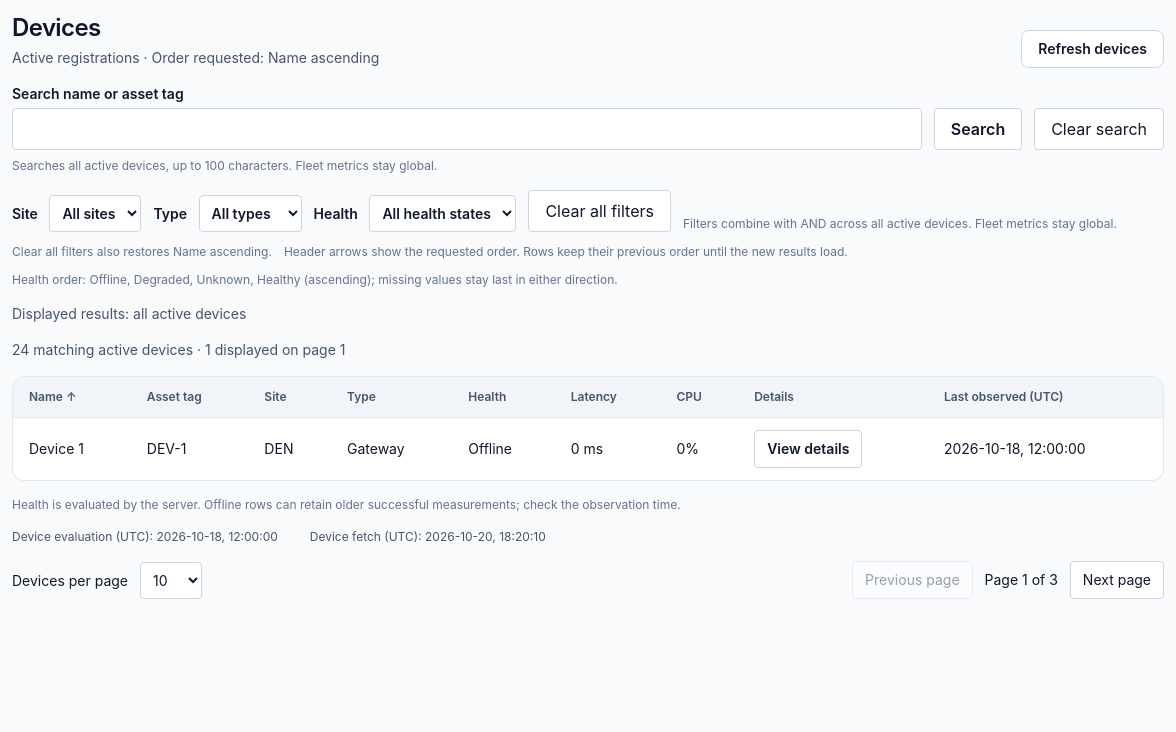
Test case: shows the server total as three pages for 24 devices at ten per page, including the final page
Expected: the text "Page 1 of 3" is shown, [985,570,1058,590]
Click the button "Next page": click(1117, 580) [1070,561,1164,599]
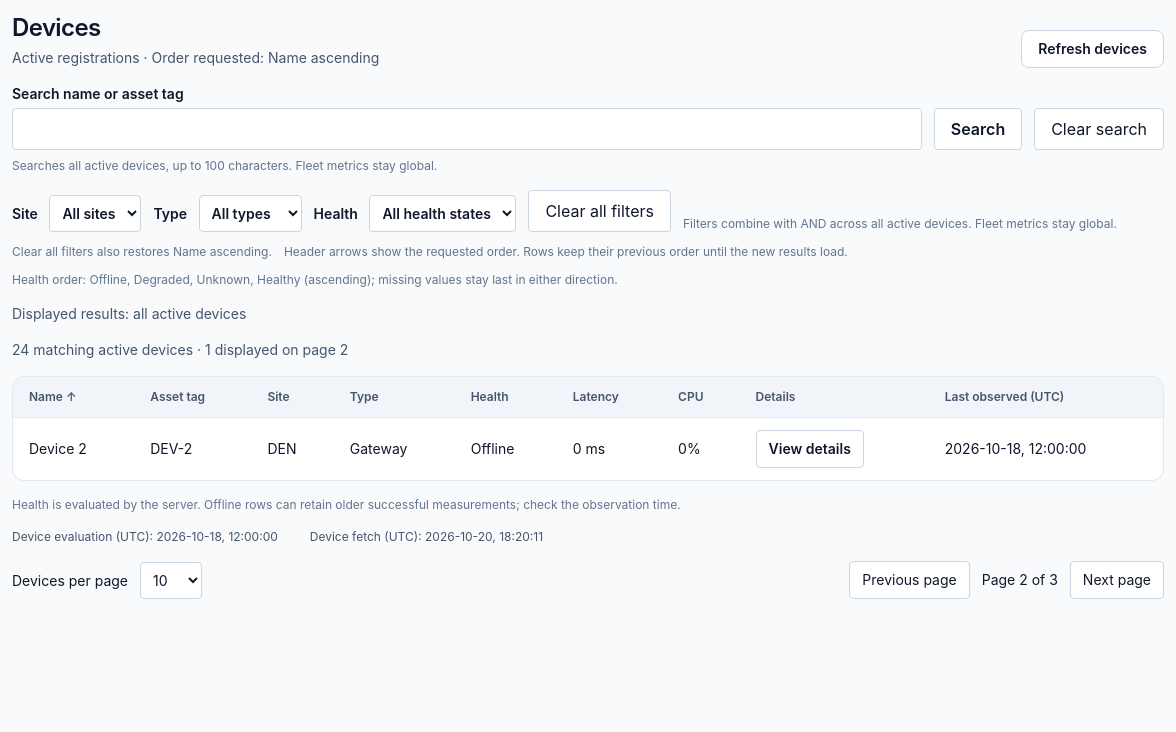
Result: the text "Page 2 of 3" is shown at [982,570,1058,590]
Click the button "Next page": click(1117, 580) [1070,561,1164,599]
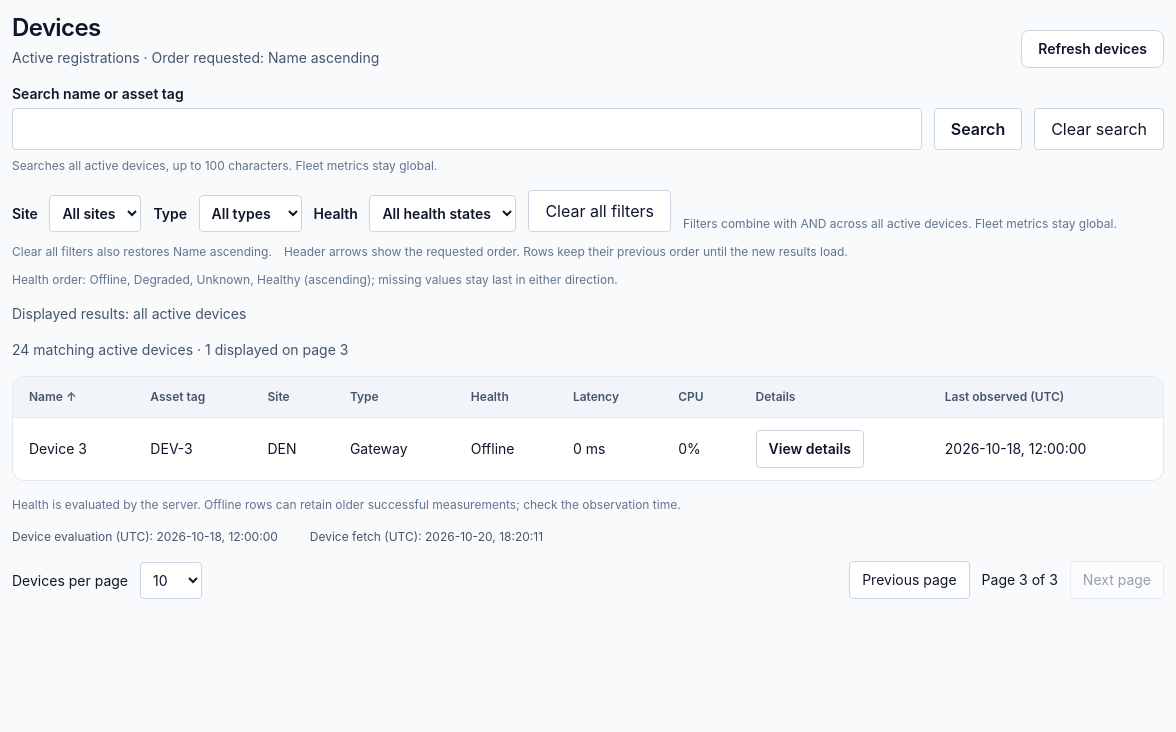
Result: the button "Previous page" is enabled at [849,561,970,599]
Result: the text "Page 3 of 3" is shown at [982,570,1058,590]
Result: the button "Next page" is disabled at [1070,561,1164,599]
